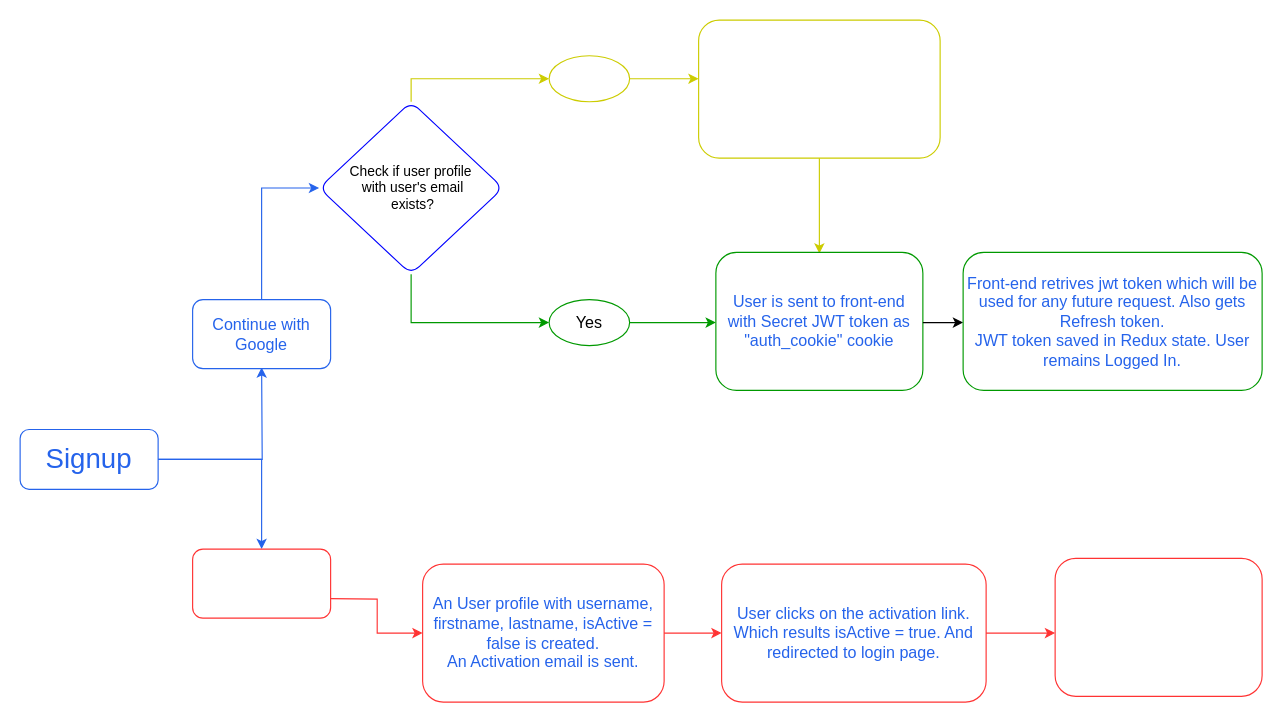
Some shapes in this 1282 by 722 pixel diagram are drawn without their labels. Here are the shapes that lost their labels. From the top down, the centre of each, then its label:
(589,78): No
(818,88): An User profile with username, firstname, lastname, isActive = true is created
(261,583): Signup providing Details
(1158,626): User can Sign In now with providing email and password
